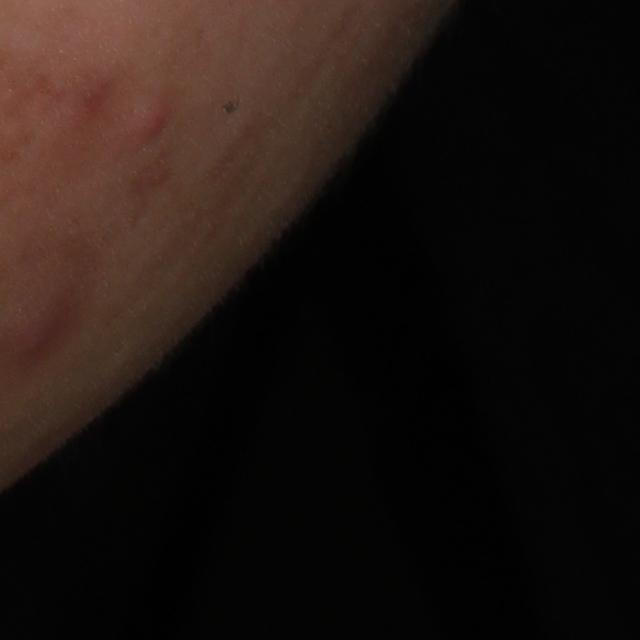papule: (128, 98, 172, 147)
